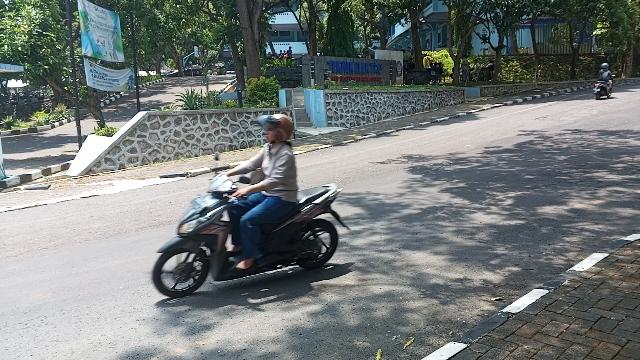helm: (259, 115, 293, 146)
motor: (154, 175, 350, 297)
